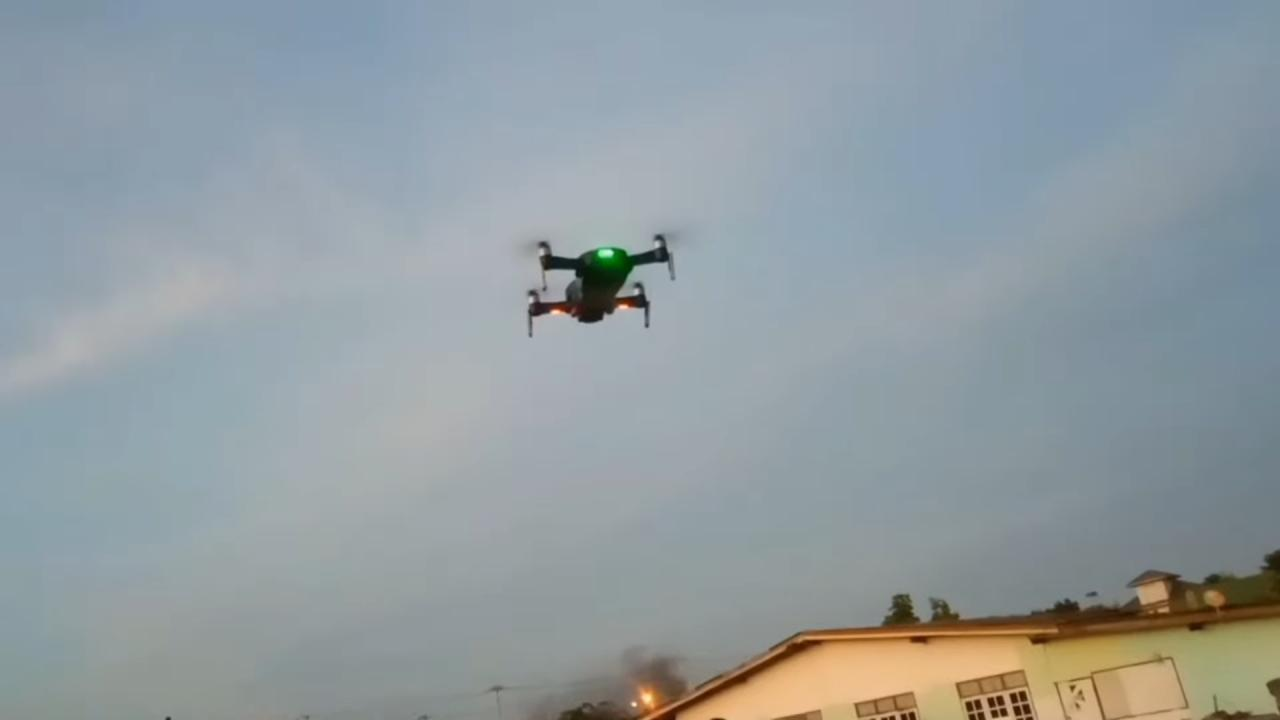Drone: (507, 221, 688, 350)
